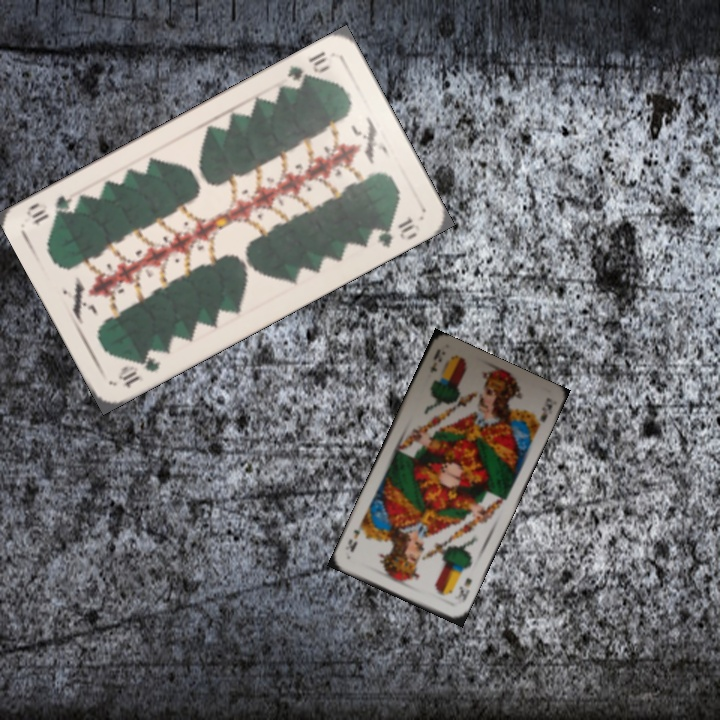EK: (450, 574, 475, 607), (426, 346, 445, 375)
G10: (114, 345, 164, 391), (283, 47, 333, 87)
